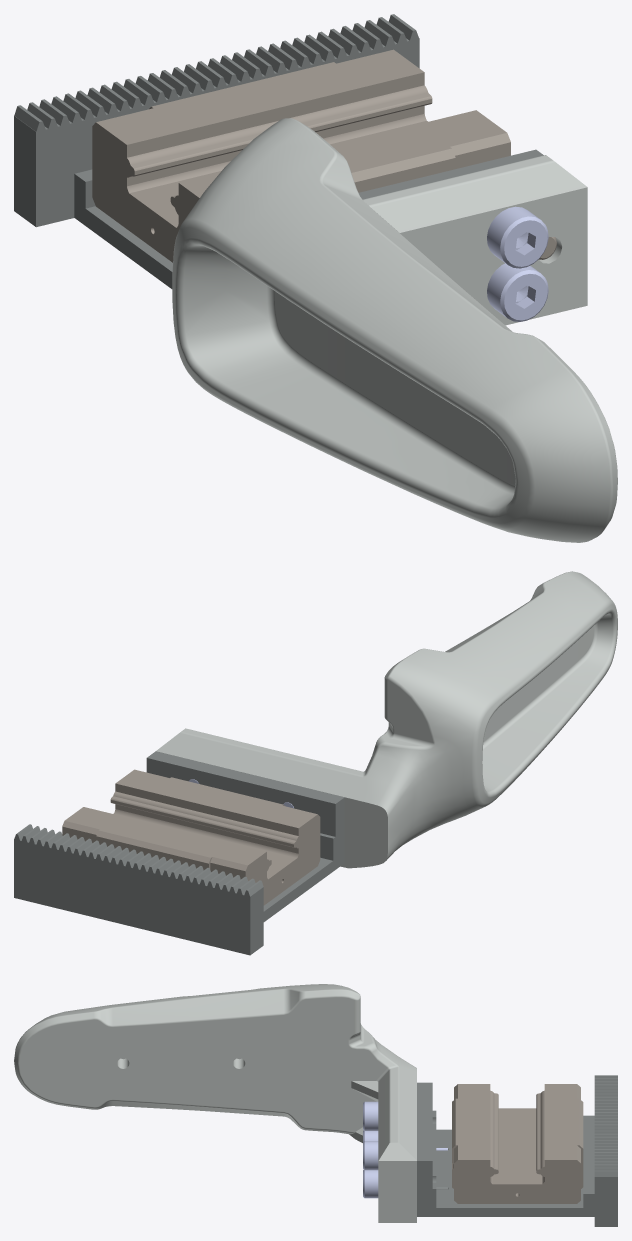
The model's file is finger.dae.
3 views of the same model, one above another, from view 1: azimuth 30°, elevation 25°; view 2: azimuth 150°, elevation 25°; view 3: azimuth 270°, elevation 25° (orthographic). The views are drawn at different scales.
Visible parts, largest first — view 1: Node_0x1d7bdf0, Node_0x1d7b010, Node_0x1d7c290, Node_0x1d7ab70; view 2: Node_0x1d7bdf0, Node_0x1d7c290, Node_0x1d7b010; view 3: Node_0x1d7bdf0, Node_0x1d7b010, Node_0x1d7c290, Node_0x1d7ab70.
Boxes of the visible parts, x1,y1,x2,y2 form: Node_0x1d7bdf0: [172, 118, 617, 542]; Node_0x1d7b010: [92, 49, 556, 262]; Node_0x1d7c290: [14, 14, 543, 288]; Node_0x1d7ab70: [487, 206, 548, 321]; Node_0x1d7bdf0: [156, 571, 617, 868]; Node_0x1d7c290: [14, 751, 344, 955]; Node_0x1d7b010: [62, 769, 320, 905]; Node_0x1d7bdf0: [14, 984, 416, 1222]; Node_0x1d7b010: [452, 1084, 583, 1203]; Node_0x1d7c290: [417, 1075, 617, 1226]; Node_0x1d7ab70: [363, 1101, 447, 1198].
Size of the model in its own units: 0.0384 by 0.0227 by 0.0782.
